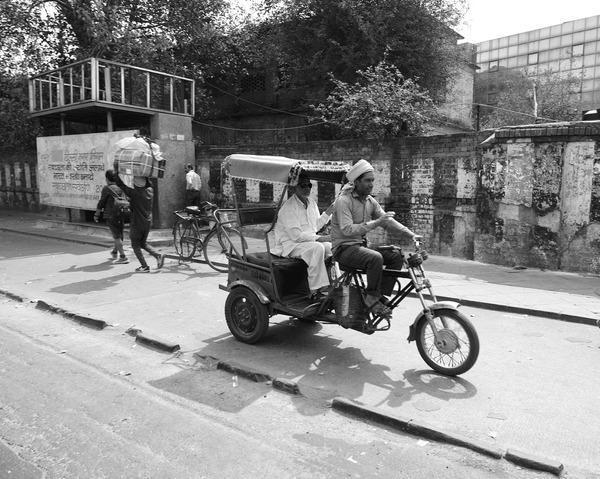keke: (218, 152, 386, 361)
